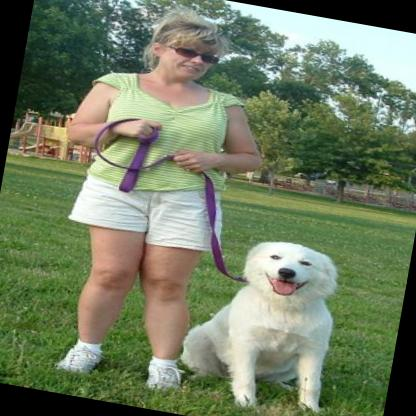Great_Pyrenees: (165, 219, 354, 416)
